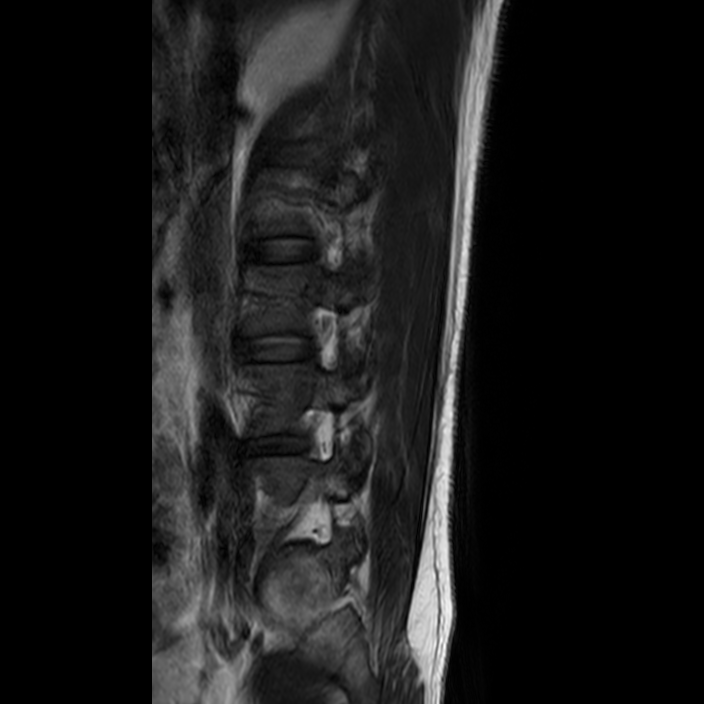RFS0: (294, 298, 357, 382)
